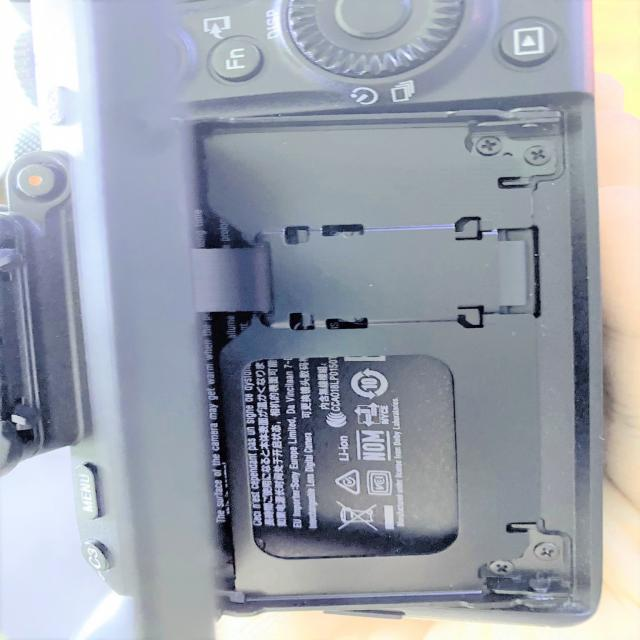PhillipsScrewHead: (474, 136, 504, 156), (522, 146, 552, 166), (533, 542, 559, 562), (491, 560, 513, 576)
